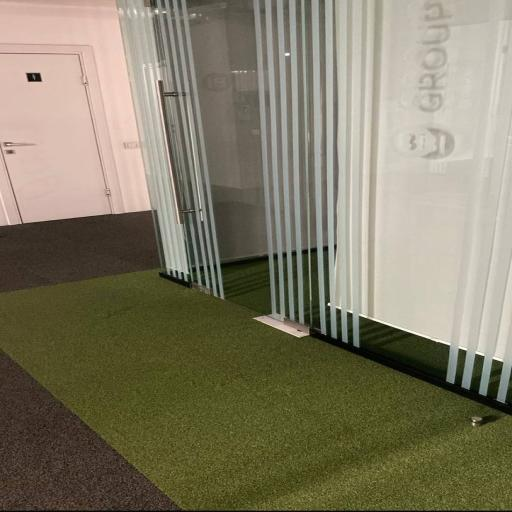child: (0, 53, 111, 223)
